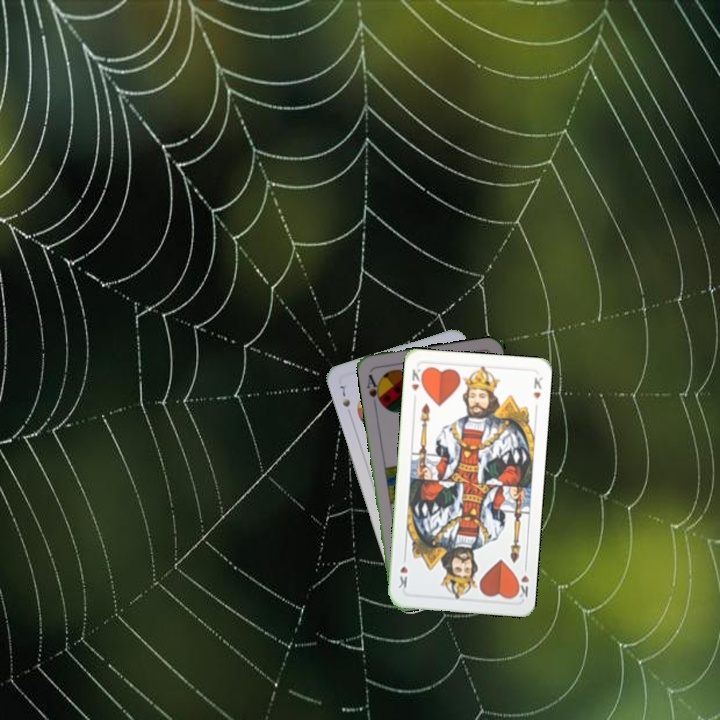HK: (511, 560, 532, 600), (407, 365, 426, 393)
S7: (335, 381, 353, 409)
SA: (363, 370, 385, 408)
